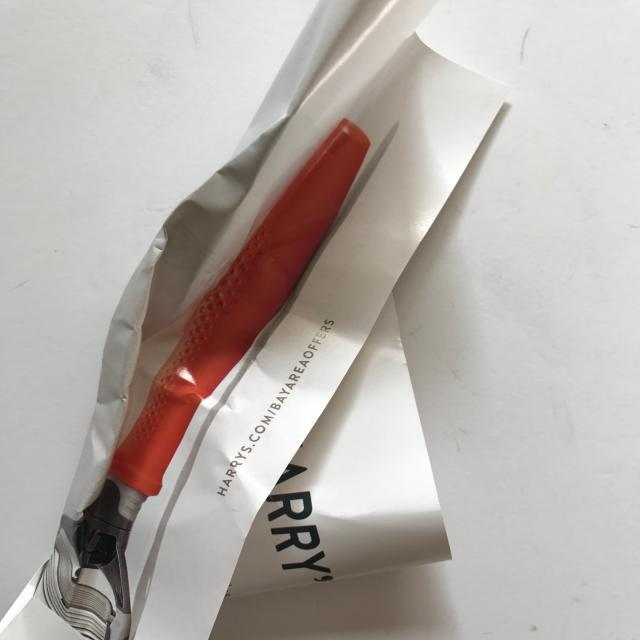paper: (2, 3, 534, 640)
